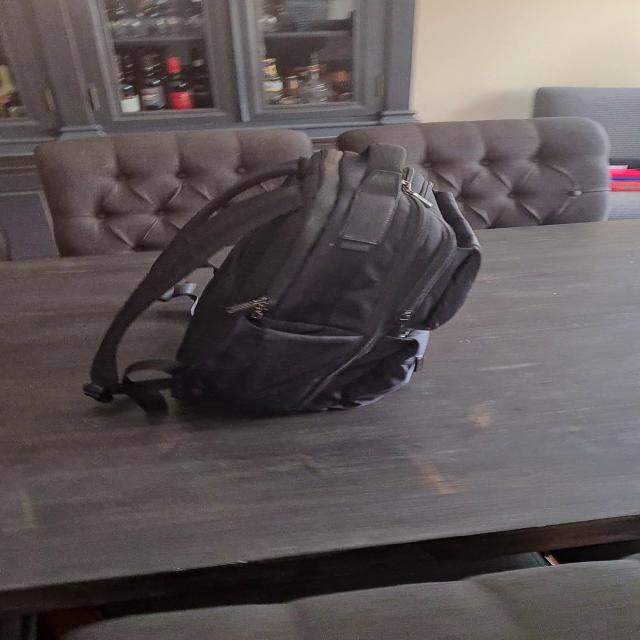backpack: (80, 142, 497, 422)
